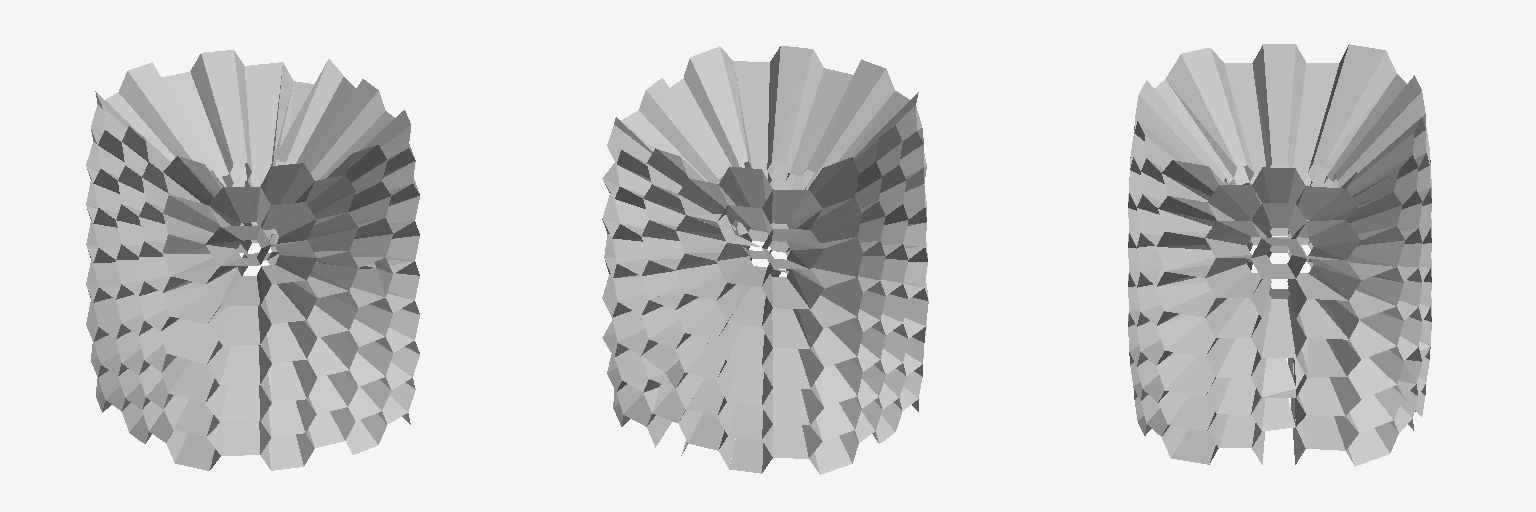
Rendered from Hive_triangulated1.obj.
3 renders of one model, left to right at view 1: azimuth 30°, elevation 25°; view 2: azimuth 150°, elevation 25°; view 3: azimuth 270°, elevation 25°, orthographic.
Parts seen in each view (by area): view 1: polySurface13; view 2: polySurface13; view 3: polySurface13.
Part boxes in pixels (x1,y1,x2,y2): polySurface13: (86,50,419,470); polySurface13: (602,46,928,474); polySurface13: (1128,44,1431,465).
Size of the model in its own units: 44.46 by 51.69 by 46.35.